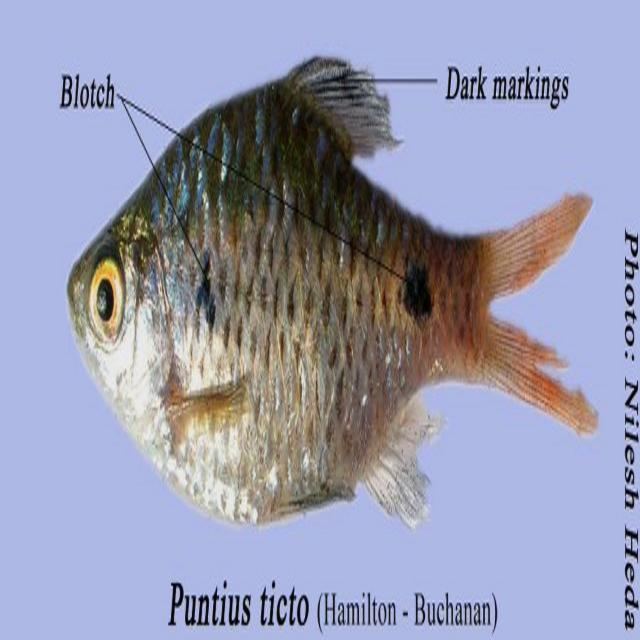Black-Spotted-Barb: (56, 41, 598, 532)
